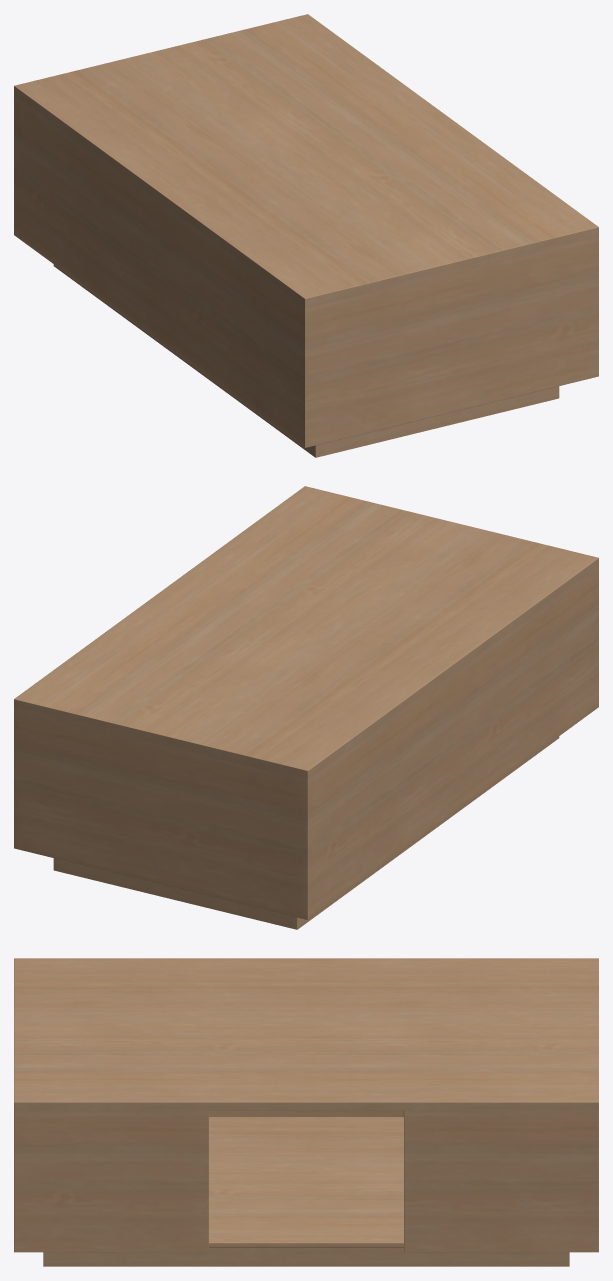
Rendered from CoffeeTable.fbx.
3 renders of one model, top to bottom at view 1: azimuth 30°, elevation 25°; view 2: azimuth 150°, elevation 25°; view 3: azimuth 270°, elevation 25°, orthographic.
Parts seen in each view (by area): view 1: CoffeeTable; view 2: CoffeeTable; view 3: CoffeeTable.
Boxes of the visible parts, x1=… form: CoffeeTable: x1=14, y1=14, x2=598, y2=457; CoffeeTable: x1=14, y1=486, x2=598, y2=929; CoffeeTable: x1=14, y1=958, x2=598, y2=1266.
Bounding box in the file's own units: 70 × 120 × 40.
1 material, 1 textured.
